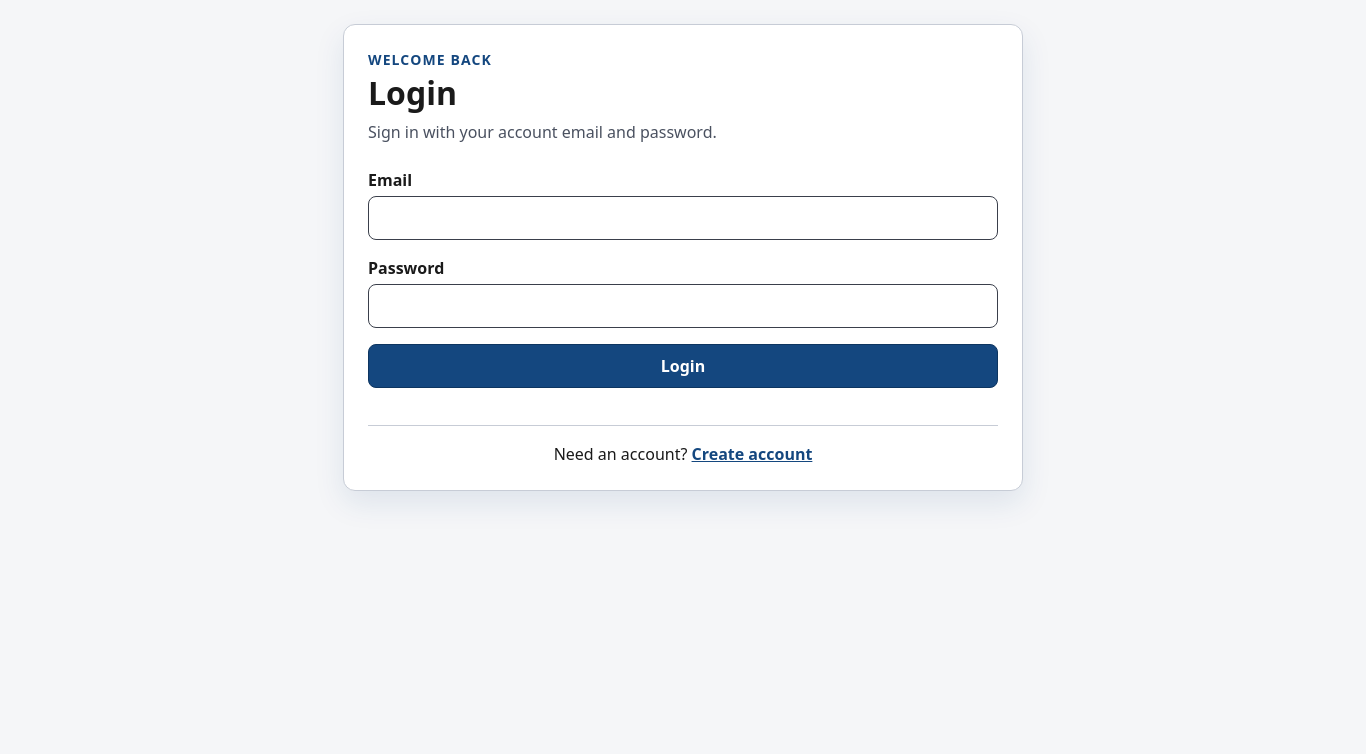
authentication and role guards › falls back to the role landing page for a forbidden intended destination
Type "worker@acme.example.test" into the field labelled "Email" at point(683, 218), box [368,196,998,240]
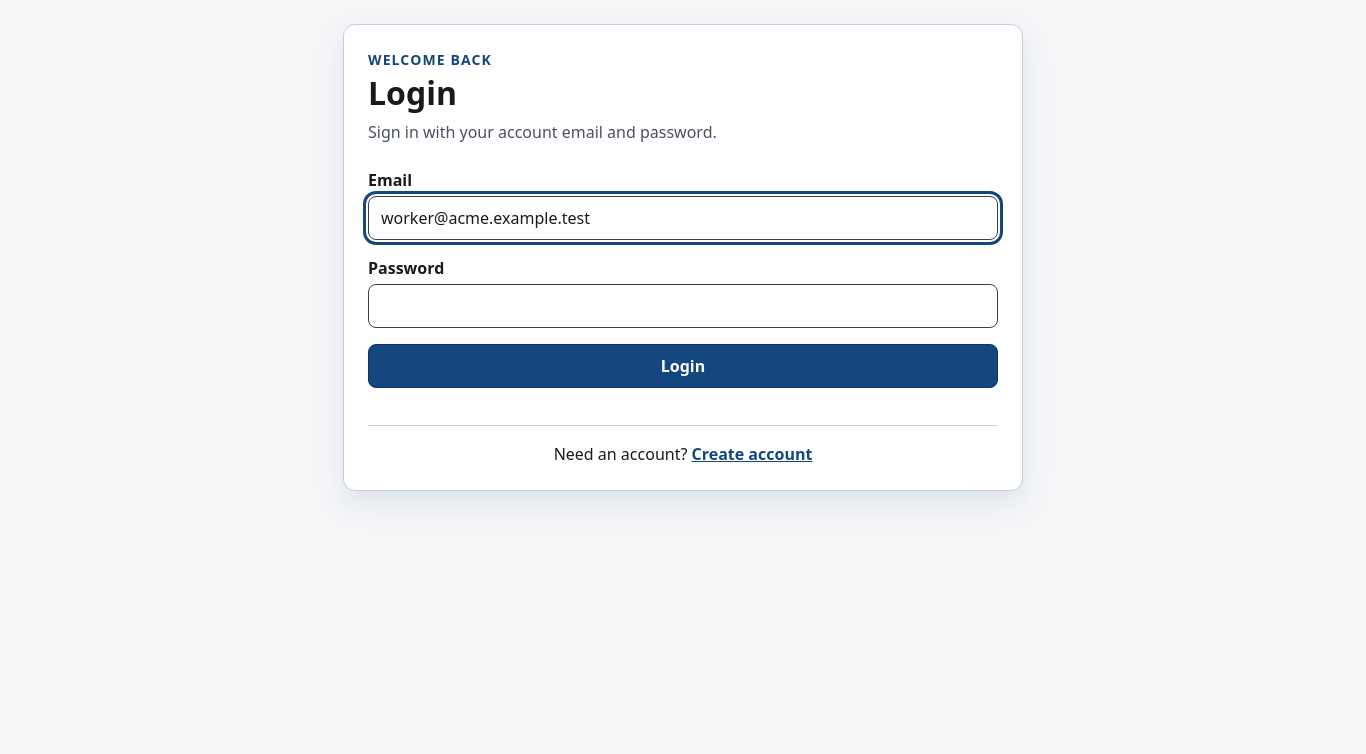
Type "demo-worker-password" into the password field labelled "Password" at point(683, 306), box [368,284,998,328]
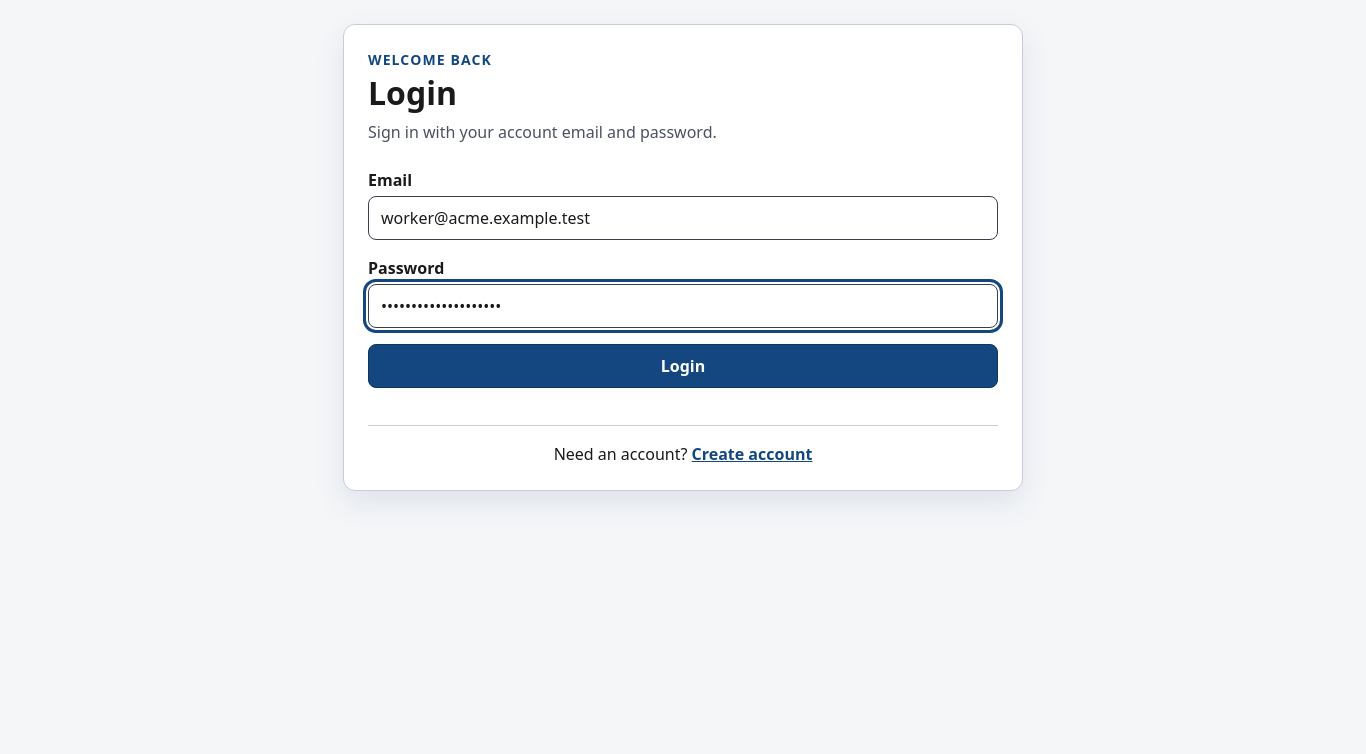
Click the button "Login" at point(683, 366), box [368,344,998,388]
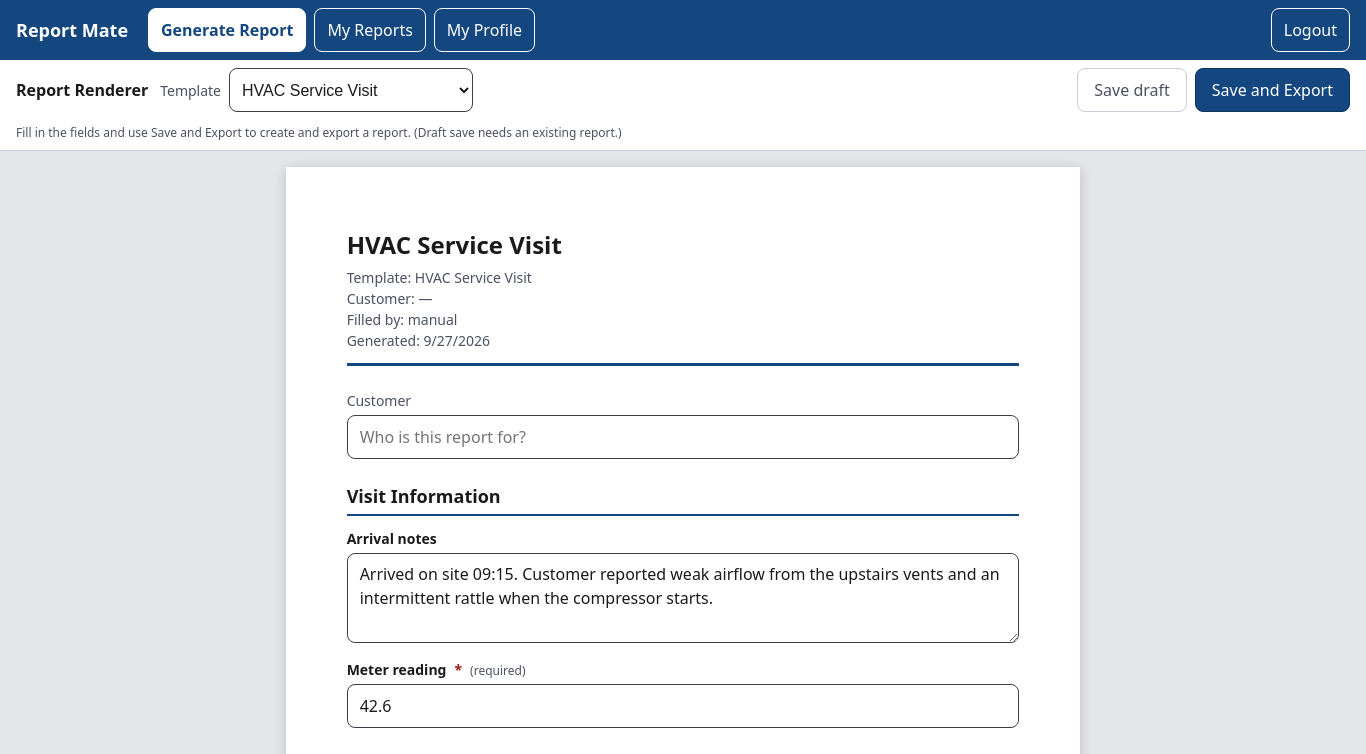
Check: the dropdown with test id "fixture-switcher" is shown, box [229,68,473,112]
